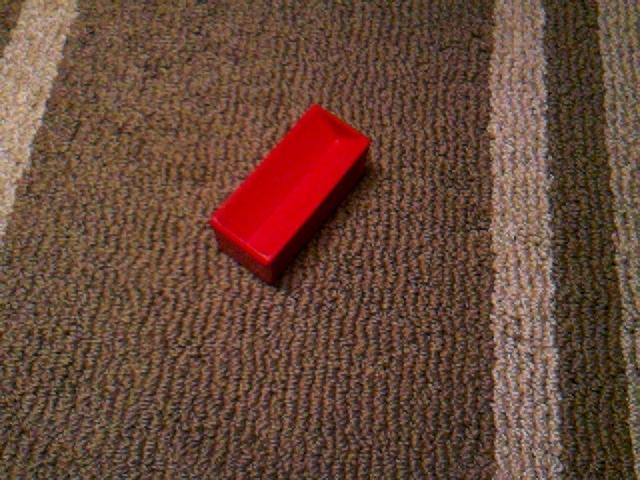red: (209, 103, 372, 287)
